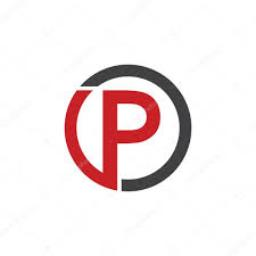p: (98, 83, 164, 193)
